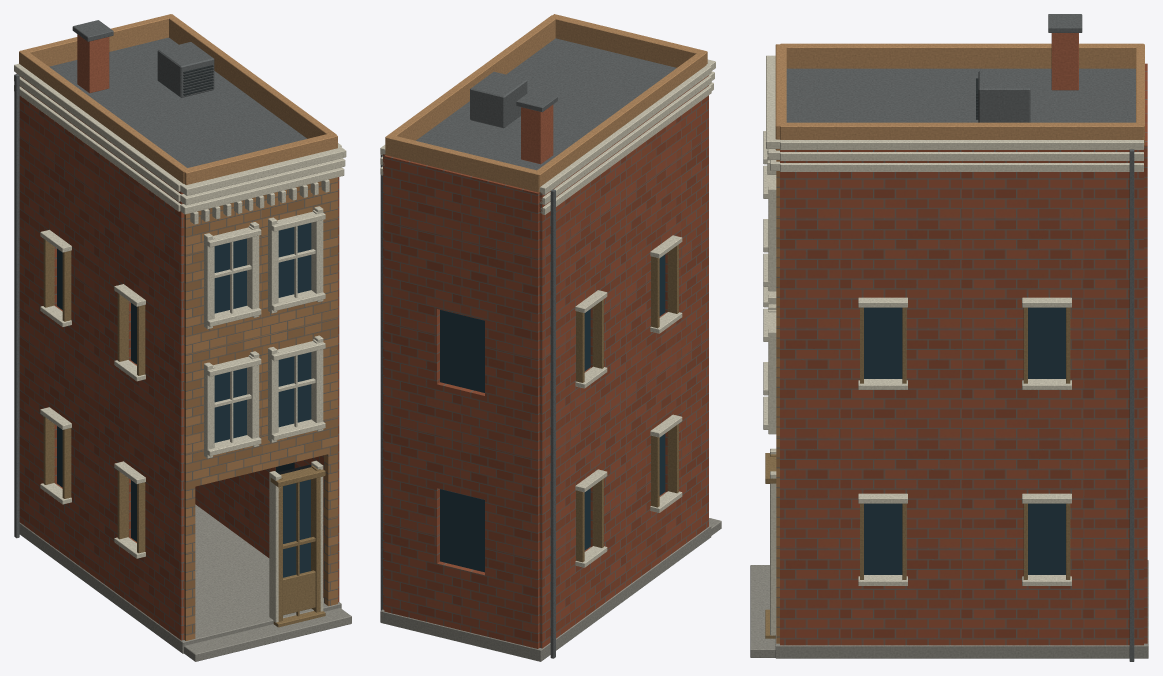
Rendered from VICT31_lod1.glb.
3 renders of one model, left to right at view 1: azimuth 30°, elevation 25°; view 2: azimuth 150°, elevation 25°; view 3: azimuth 270°, elevation 25°, orthographic. The views are drawn at different scales.
Parts seen in each view (by area): view 1: VICT31_LOD1; view 2: VICT31_LOD1; view 3: VICT31_LOD1.
Boxes of the visible parts, x1,y1,x2,y2 form: VICT31_LOD1: (14,14,351,661); VICT31_LOD1: (380,14,721,661); VICT31_LOD1: (750,14,1148,661).
Bounding box in the file's own units: 3.71 × 10.45 × 6.57.
11 materials, 9 textured.
